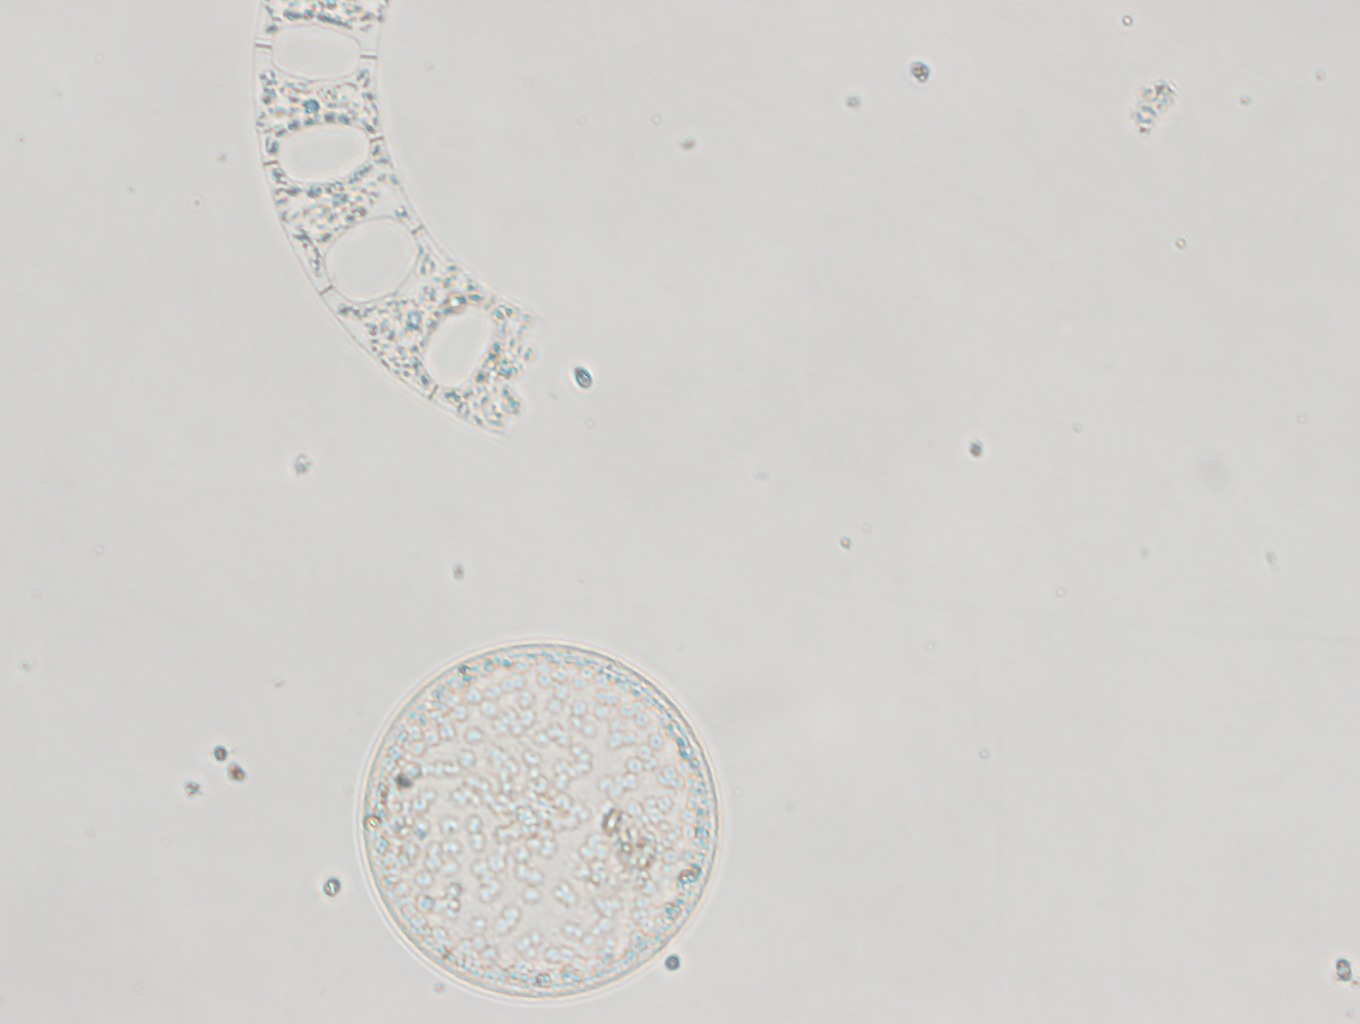coscinodiscus: (358, 638, 719, 1002)
eucampia: (248, 1, 549, 440)
